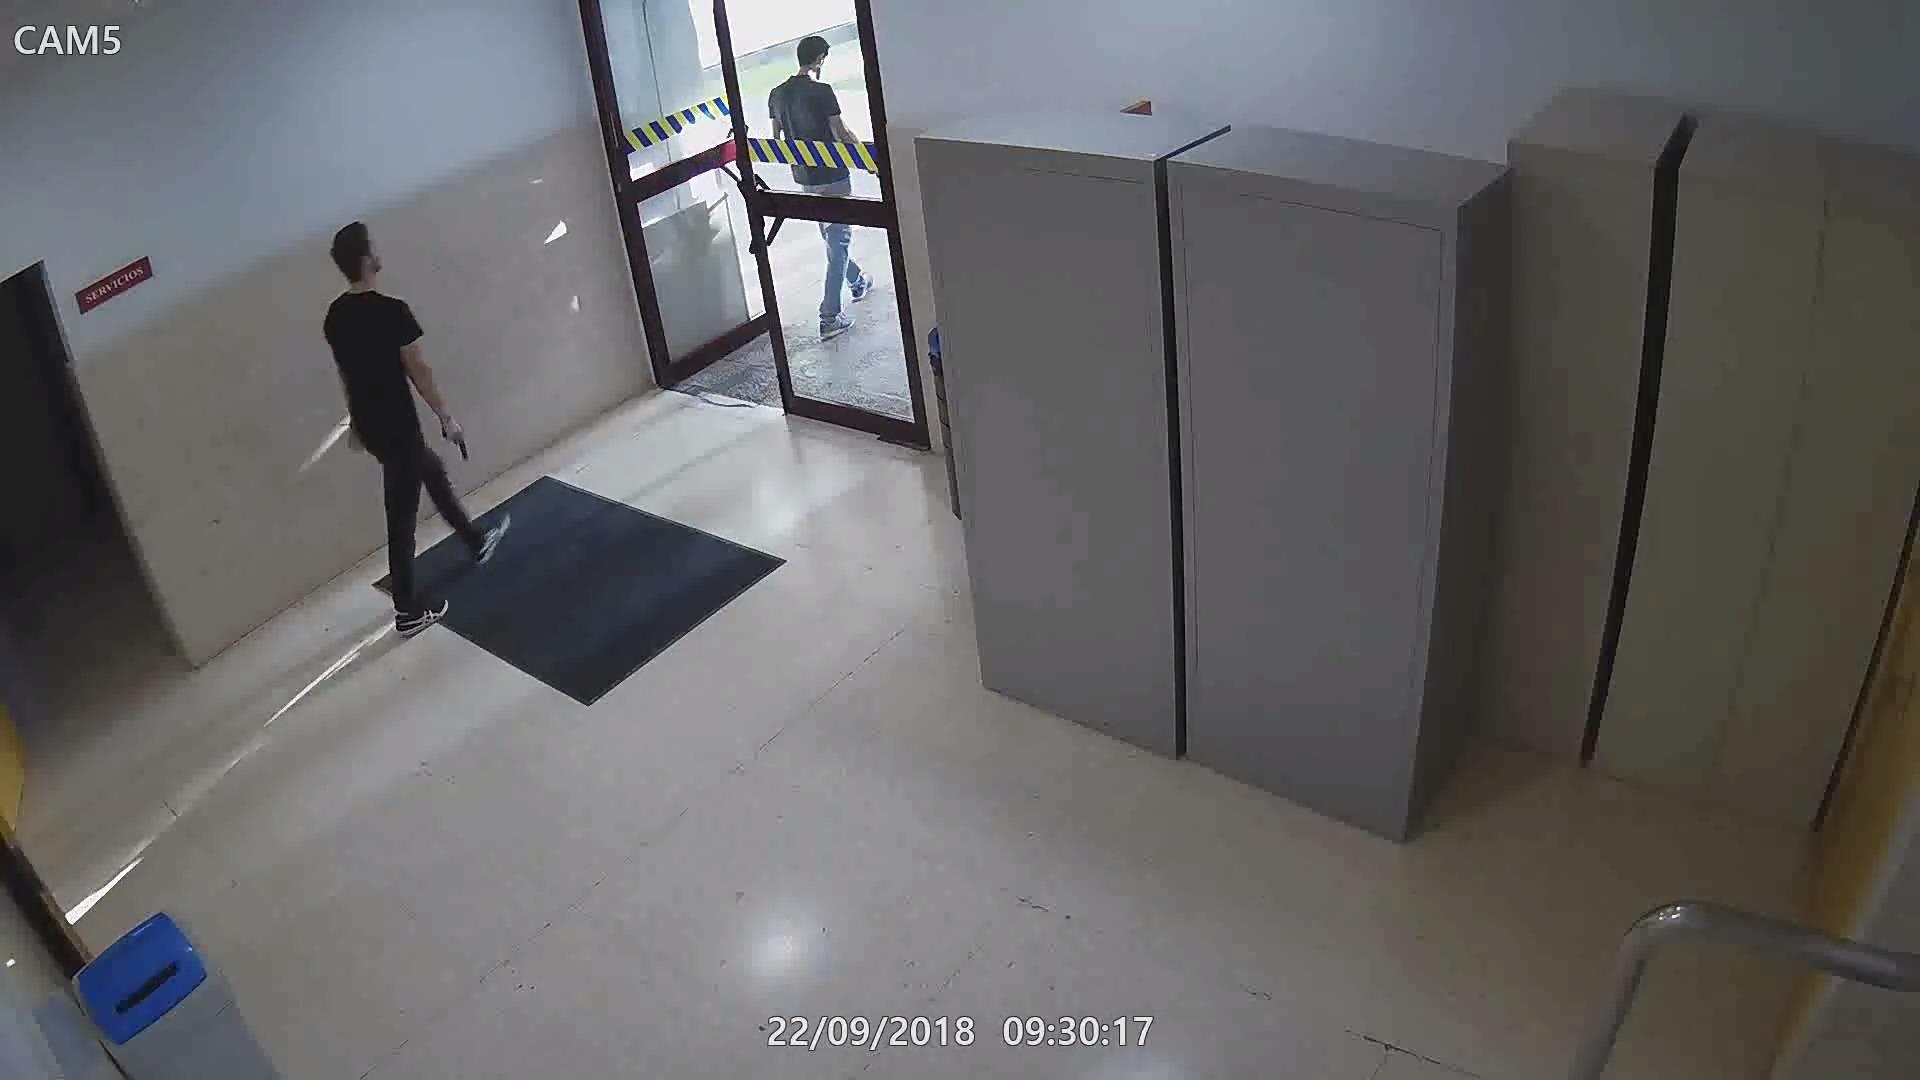Handgun: (439, 413, 471, 467)
